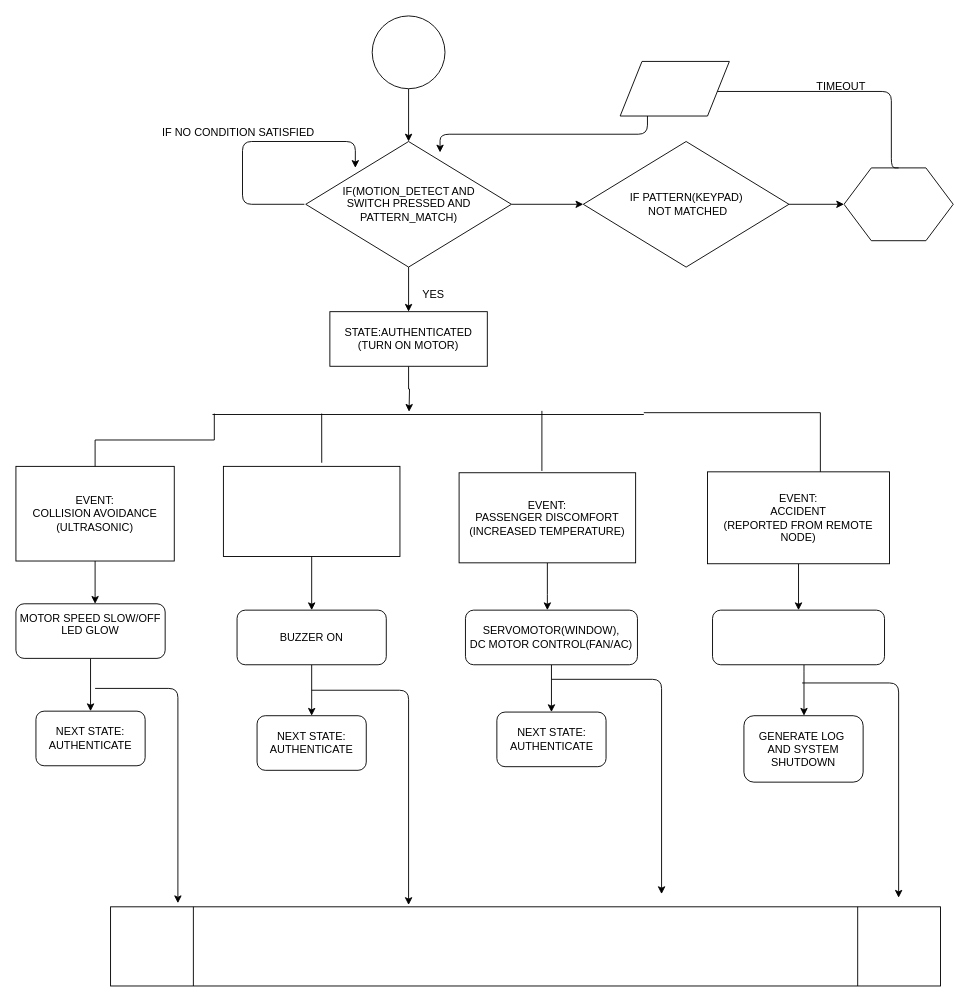
This 969x1002 diagram has some shape labels left out. Here are the shapes that lost their labels. From the top down, the centre of each, then its label:
At pixel 408 52: "START".
At pixel 674 88: "BUZZER OFF".
At pixel 898 204: "TURN THE BUZZER ON".
At pixel 311 510: "EVENT: DROWSINESS/DRUNK (ALCOHOL VALUE)".
At pixel 798 637: "MOTOR OFF/ LED ON".
At pixel 525 946: "FEEDBACK TO REMOTE NODE(FOR ACTUATION)".
